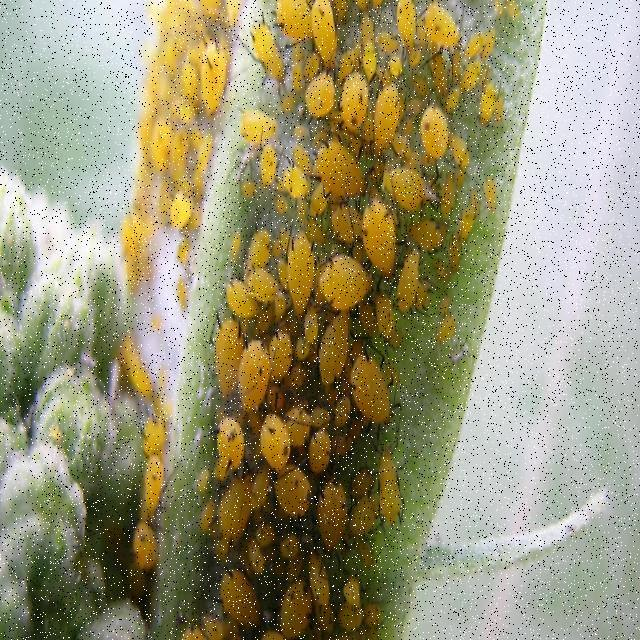Aphids: (342, 321, 400, 435), (275, 210, 324, 331), (320, 244, 374, 329), (361, 193, 403, 287), (315, 133, 369, 204), (385, 161, 429, 218)
